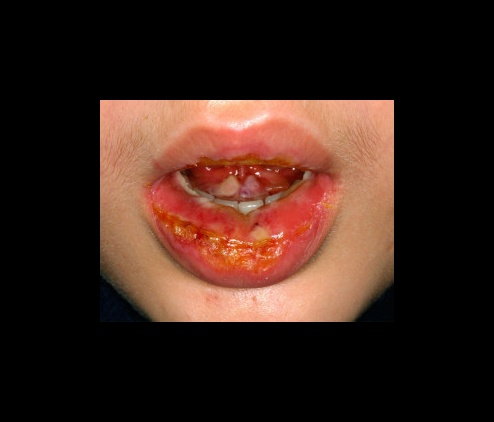SJS-TEN: (90, 101, 389, 325)
